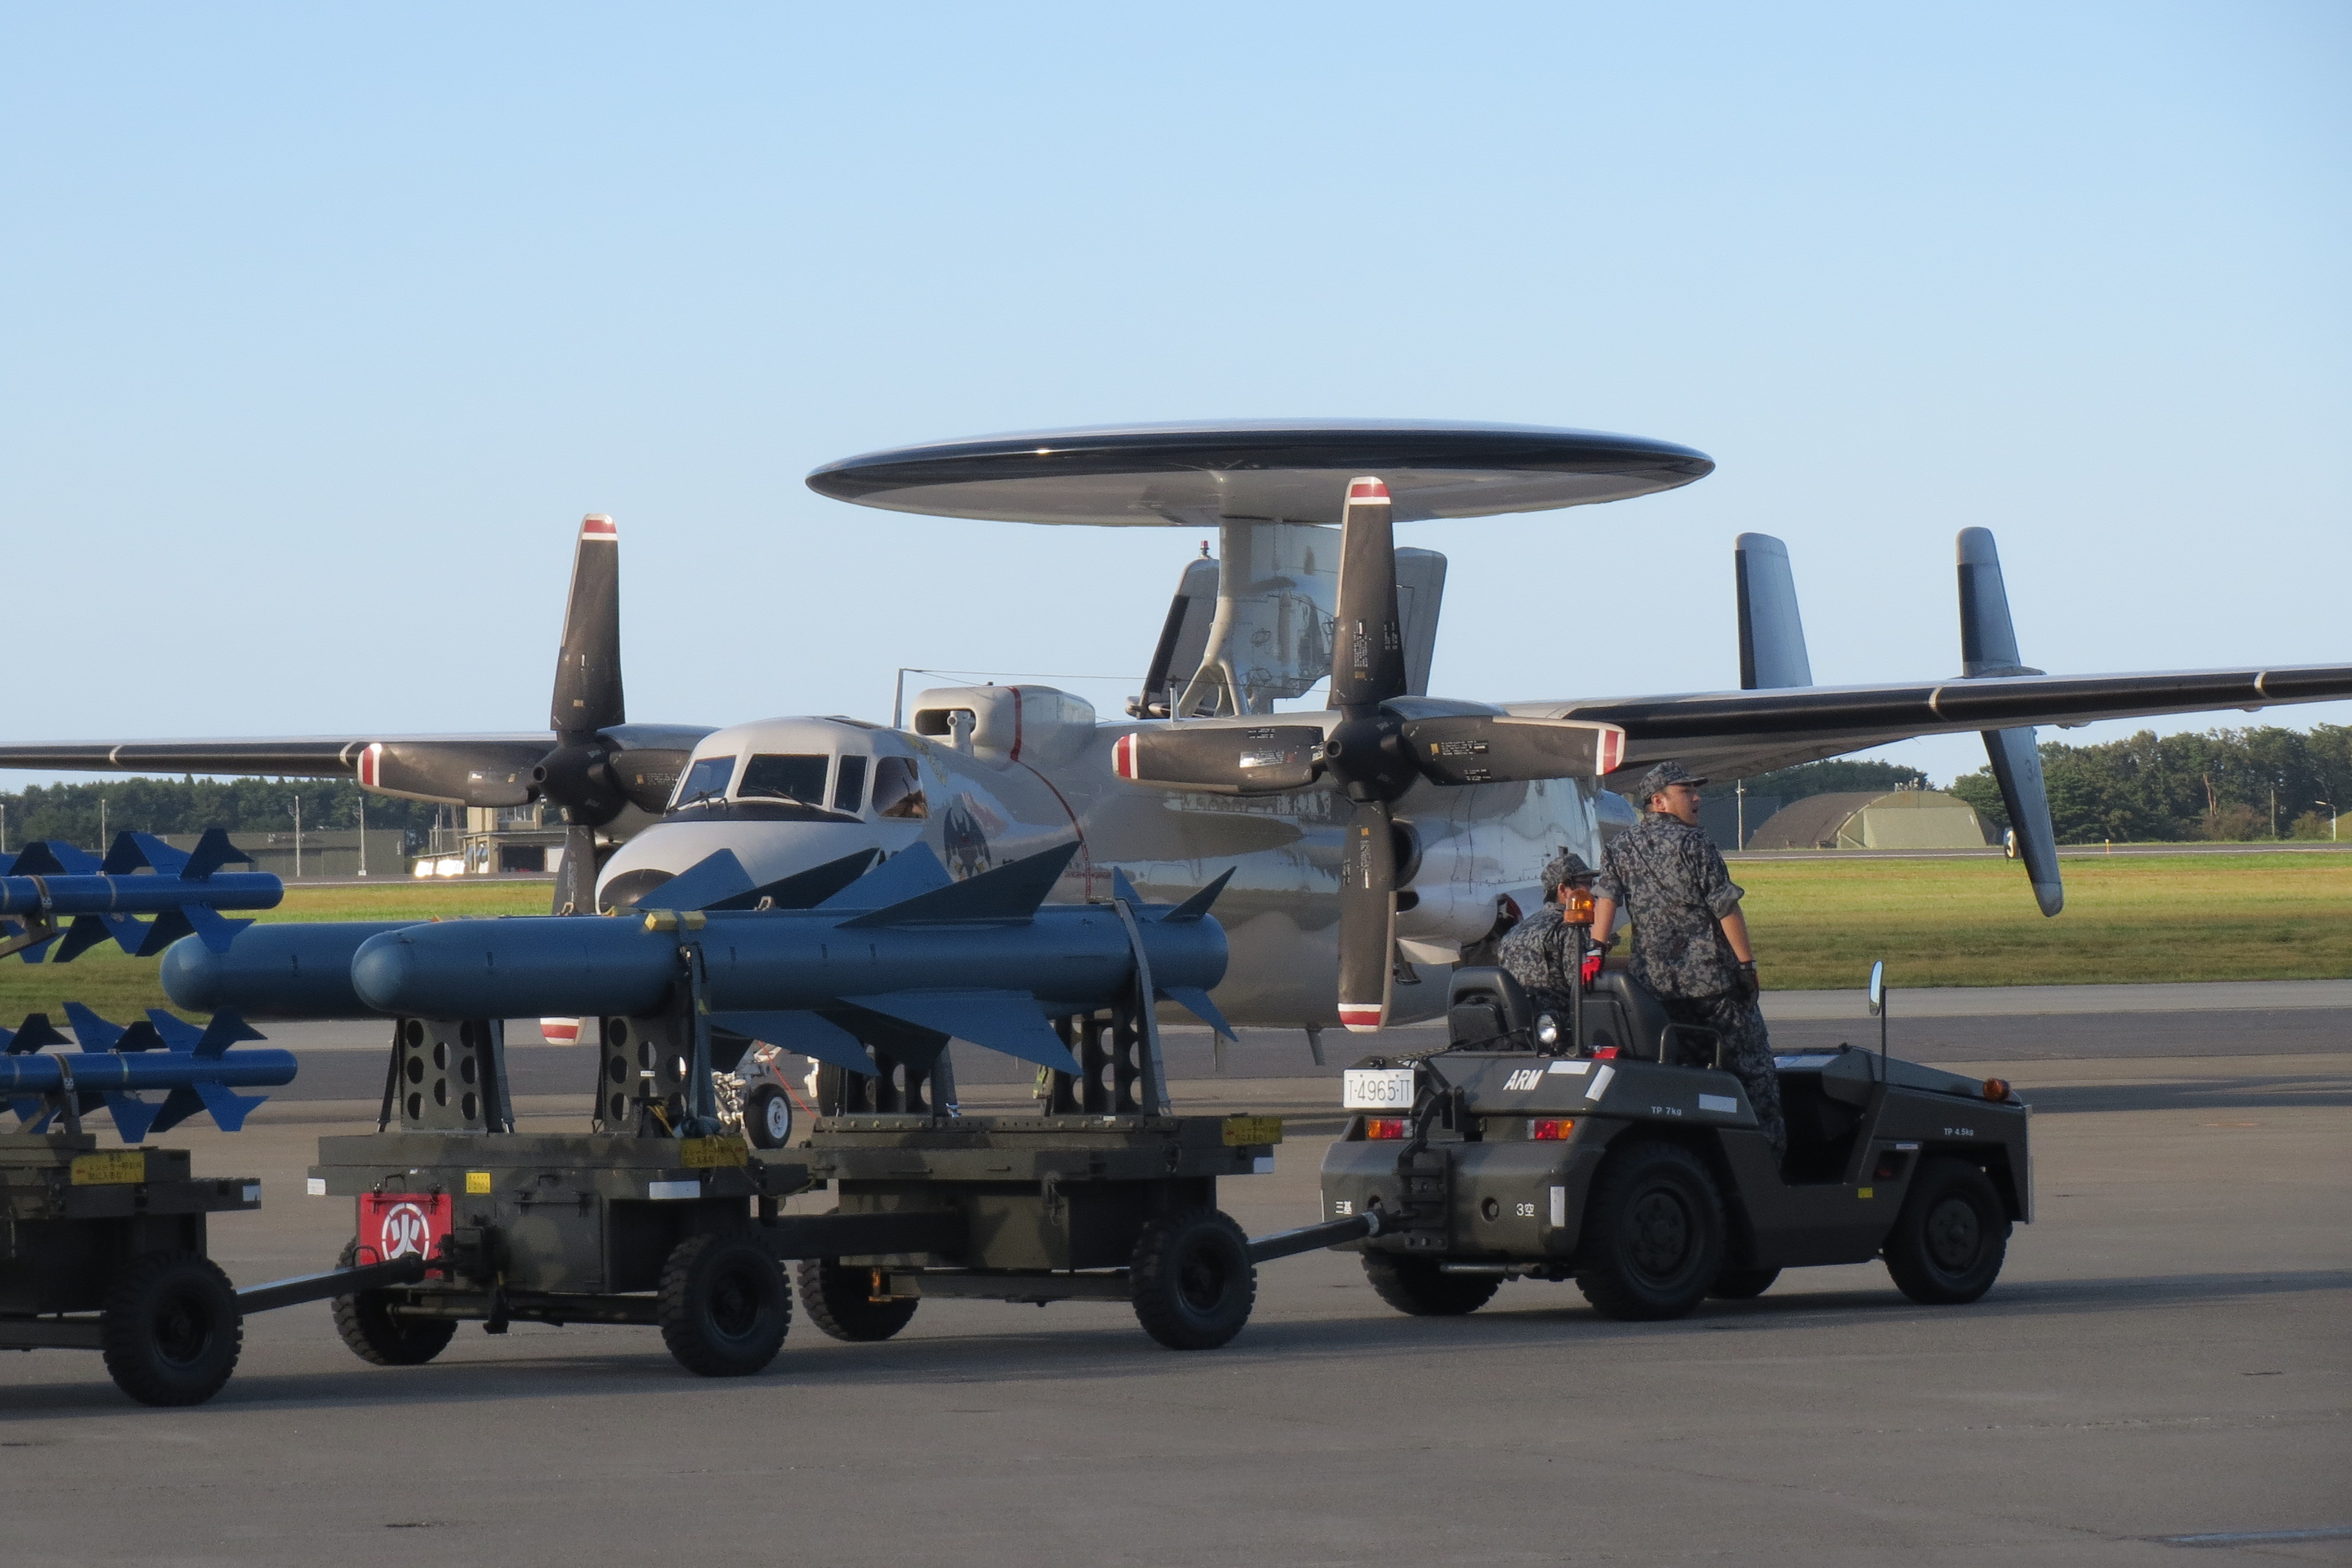E2: (0, 416, 2352, 1150)
